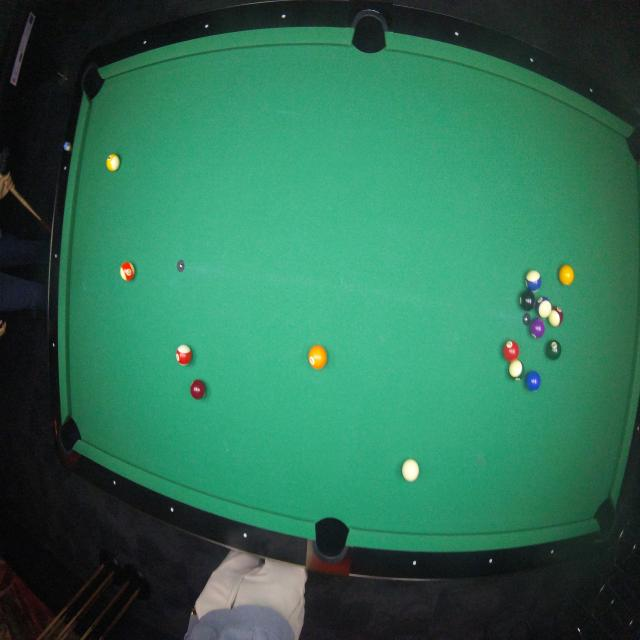cue ball: (401, 456, 421, 484)
other: (307, 341, 328, 370), (189, 374, 208, 402), (119, 259, 138, 284), (175, 341, 193, 366), (508, 357, 526, 381), (525, 268, 542, 293), (535, 295, 552, 320), (518, 289, 536, 312), (502, 340, 520, 363), (548, 304, 564, 328), (105, 154, 122, 176), (525, 371, 542, 393), (558, 265, 575, 286), (530, 317, 546, 339), (546, 338, 562, 360)
